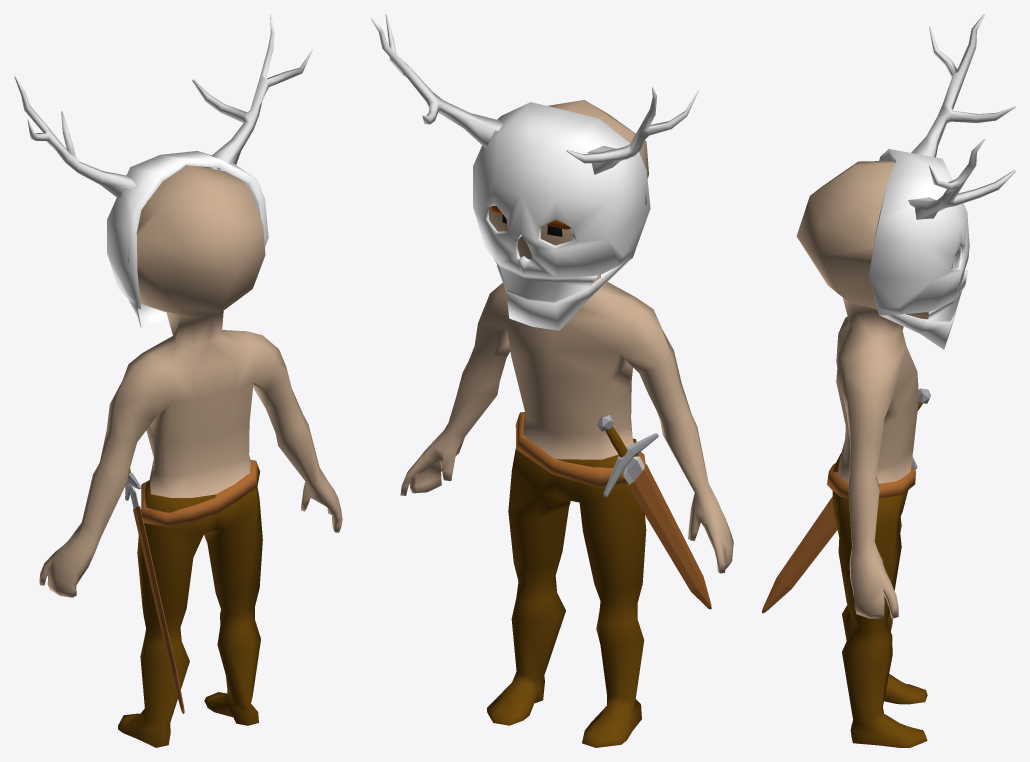
File: Character.fbx
The picture shows the model from 3 angles, left to right: view 1: azimuth 30°, elevation 25°; view 2: azimuth 150°, elevation 25°; view 3: azimuth 270°, elevation 25°; orthographic projection. The views are drawn at different scales.
Visible parts, largest first — view 1: Character_Complete_Male.001; view 2: Character_Complete_Male.001; view 3: Character_Complete_Male.001.
Boxes of the visible parts, x1=… form: Character_Complete_Male.001: x1=14, y1=14, x2=342, y2=747; Character_Complete_Male.001: x1=371, y1=14, x2=733, y2=747; Character_Complete_Male.001: x1=762, y1=14, x2=1015, y2=747.
Size of the model in its own units: 0.7518 by 1.57 by 0.5608.
